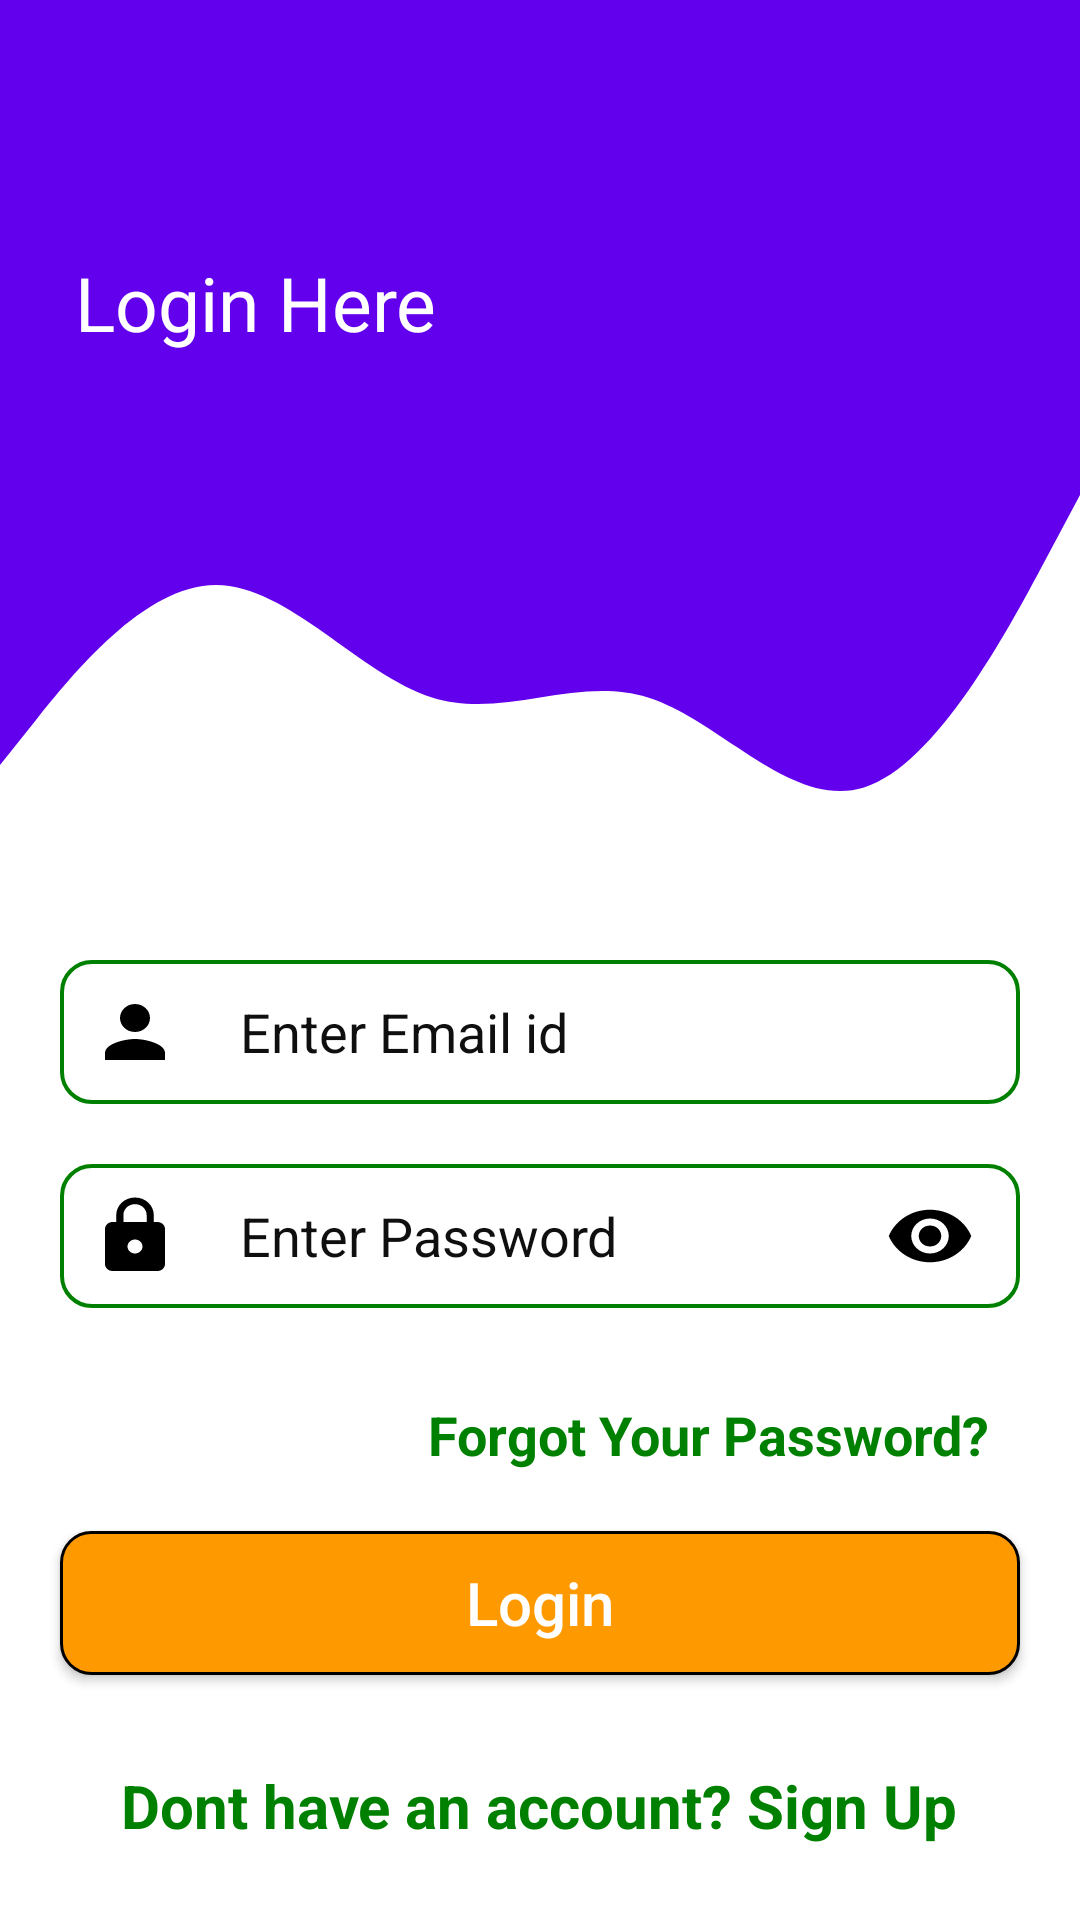

Named icons in this screenshot (1080px×1920px) and their centers, (x,y):
visibility: (930,1236)
